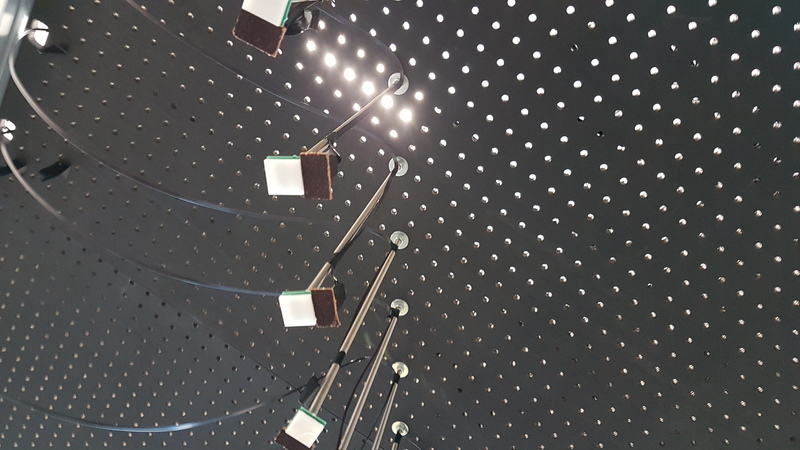target: (264, 151, 307, 197), (277, 290, 319, 329), (284, 409, 325, 447)
